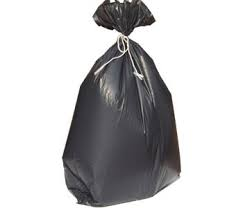Trash: (55, 1, 194, 207)
